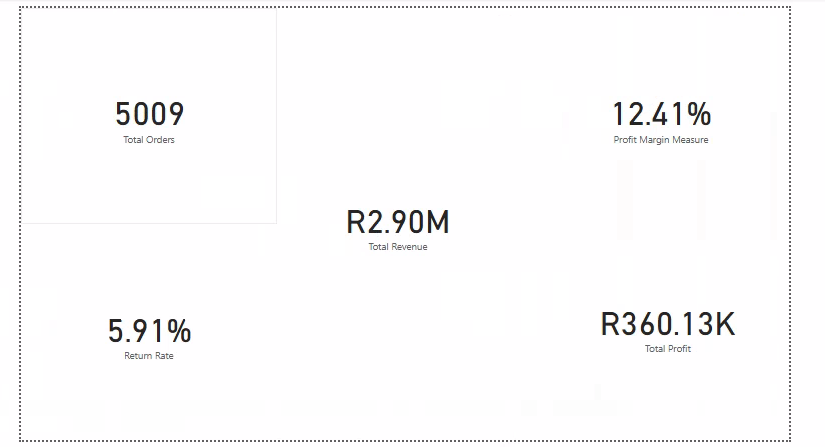

What the dashboard file says about the page in this screenshot:
{"tool":"powerbi","page":{"name":"KPIs","canvas":[1280,720],"ordinal":0},"visuals":[{"type":"card","fields":{"Values":["Orders.Total Orders"]},"box":[0,0,426.3,360.5],"z":0},{"type":"card","fields":{"Values":["Orders.Total Profit"]},"box":[876.3,336.8,402.6,384.2],"z":1000},{"type":"card","fields":{"Values":["Orders.Total Revenue"]},"box":[426.3,0,402.6,718.4],"z":2000},{"type":"card","fields":{"Values":["Orders.Return Rate"]},"box":[0,361,426,359],"z":3000},{"type":"card","fields":{"Values":["Orders.Profit Margin Measure"]},"box":[852.6,0,426.3,360.5],"z":4000}]}

Visuals, with their boxes on the page's 1280x720 design canvas (x1, y1, x2, y2). These are canvas units, not pixel positions in the 825x447 screenshot, which may show the page scaled, cropped or inside an application window:
card - Orders.Total Orders: select_region(0, 0, 426, 360)
card - Orders.Total Profit: select_region(876, 337, 1279, 721)
card - Orders.Total Revenue: select_region(426, 0, 829, 718)
card - Orders.Return Rate: select_region(0, 361, 426, 720)
card - Orders.Profit Margin Measure: select_region(853, 0, 1279, 360)
